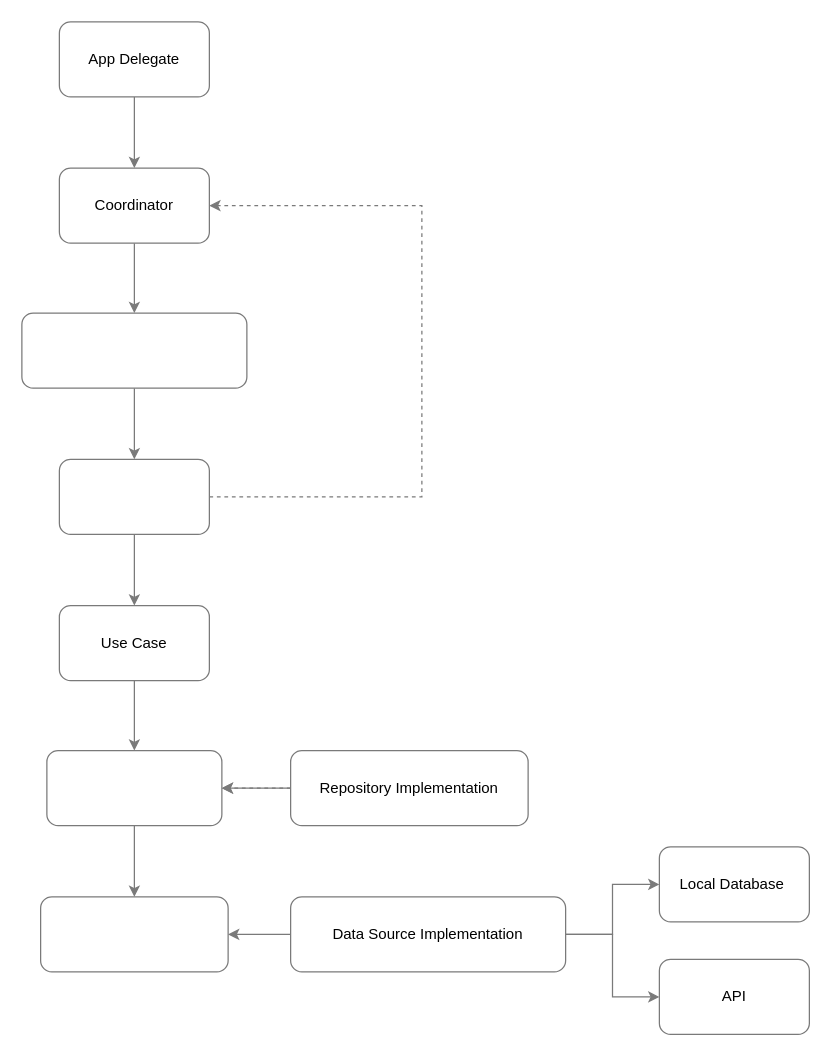
The diagram is 831 pixels wide and 1056 high, and some of its shapes have lost their labels. The shapes that lost their labels are listed below. From the top down, each one's centre as x and y in pixels, then its label:
At pixel 134 350: "UIViewController / View".
At pixel 133 496: "ViewModel".
At pixel 134 787: "Repository Protocol".
At pixel 133 934: "Data Source Protocol".
